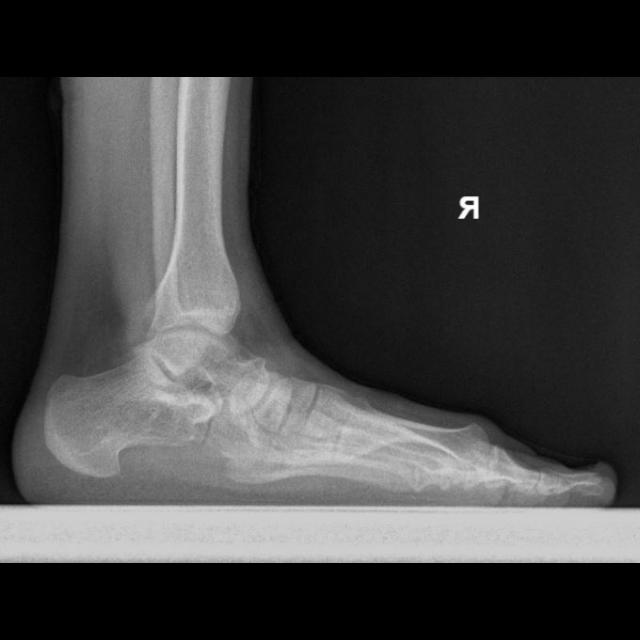a: (44, 352, 216, 478)
b: (253, 374, 295, 432)
c: (337, 400, 492, 467)
